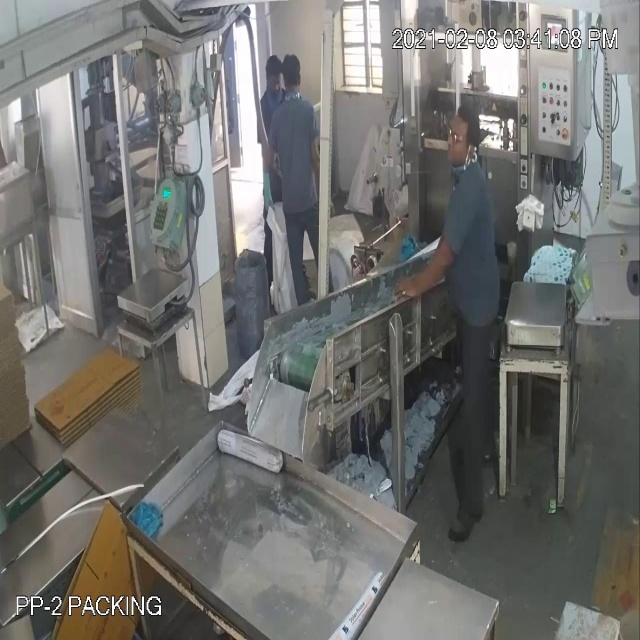Sin_guantes: (397, 229, 458, 308)
